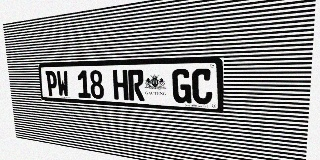1: (77, 70, 91, 98)
8: (89, 70, 104, 99)
C: (192, 68, 212, 105)
G: (172, 69, 191, 104)
H: (113, 70, 129, 100)
P: (45, 71, 58, 97)
R: (128, 69, 145, 101)
W: (56, 71, 69, 97)
